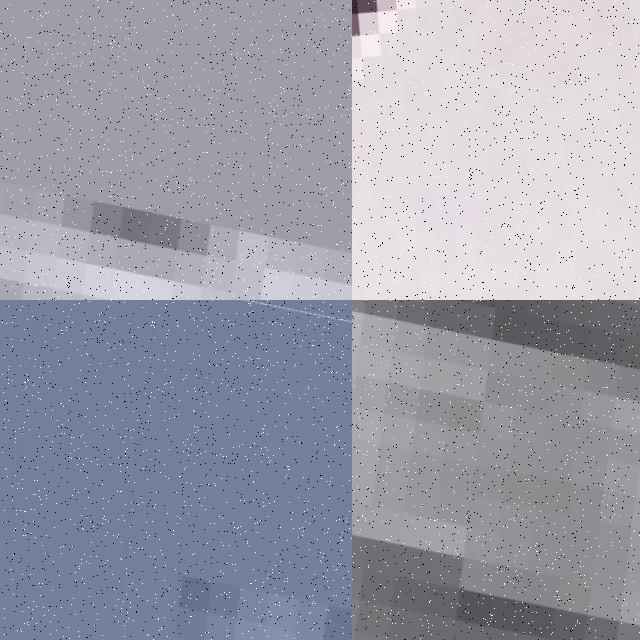drone: (0, 300, 352, 640), (0, 0, 352, 300), (352, 300, 640, 640)
